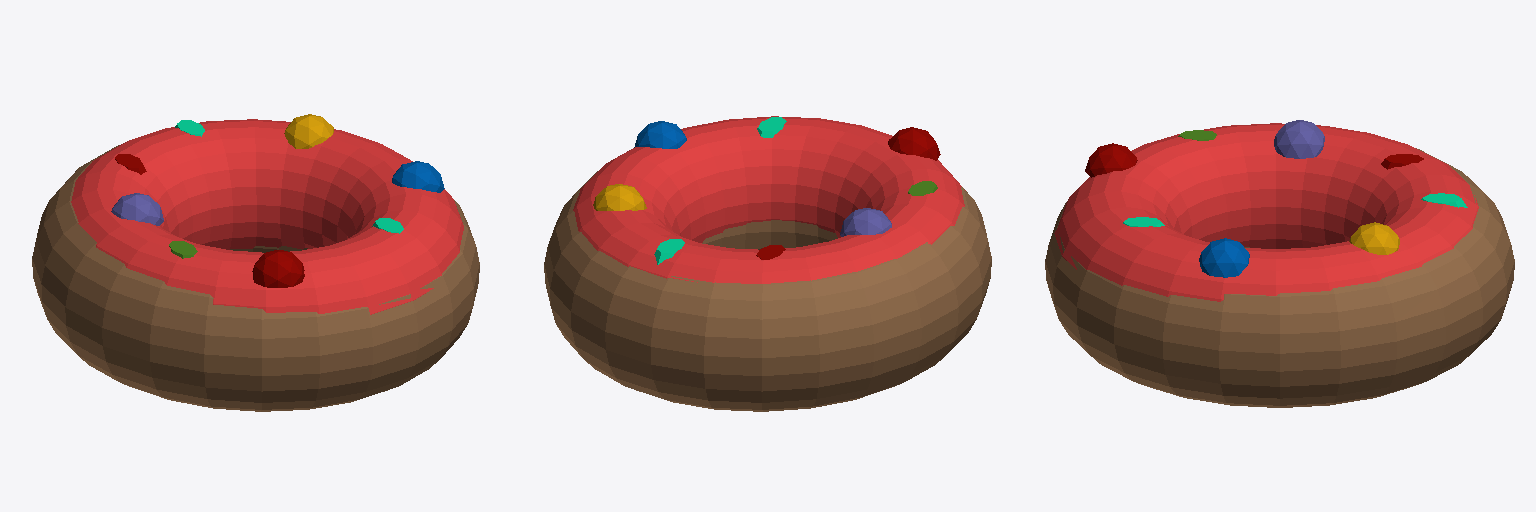
Rendered from Donut.obj.
The picture shows the model from 3 angles: view 1: azimuth 30°, elevation 25°; view 2: azimuth 150°, elevation 25°; view 3: azimuth 270°, elevation 25°; orthographic projection.
Parts seen in each view (by area): view 1: mergedBlocks; view 2: mergedBlocks; view 3: mergedBlocks.
Boxes of the visible parts, x1,y1,x2,y2 form: mergedBlocks: [32, 114, 479, 411]; mergedBlocks: [544, 116, 991, 411]; mergedBlocks: [1045, 120, 1514, 407].
Bounding box in the file's own units: 0.2354 × 0.095 × 0.2511.